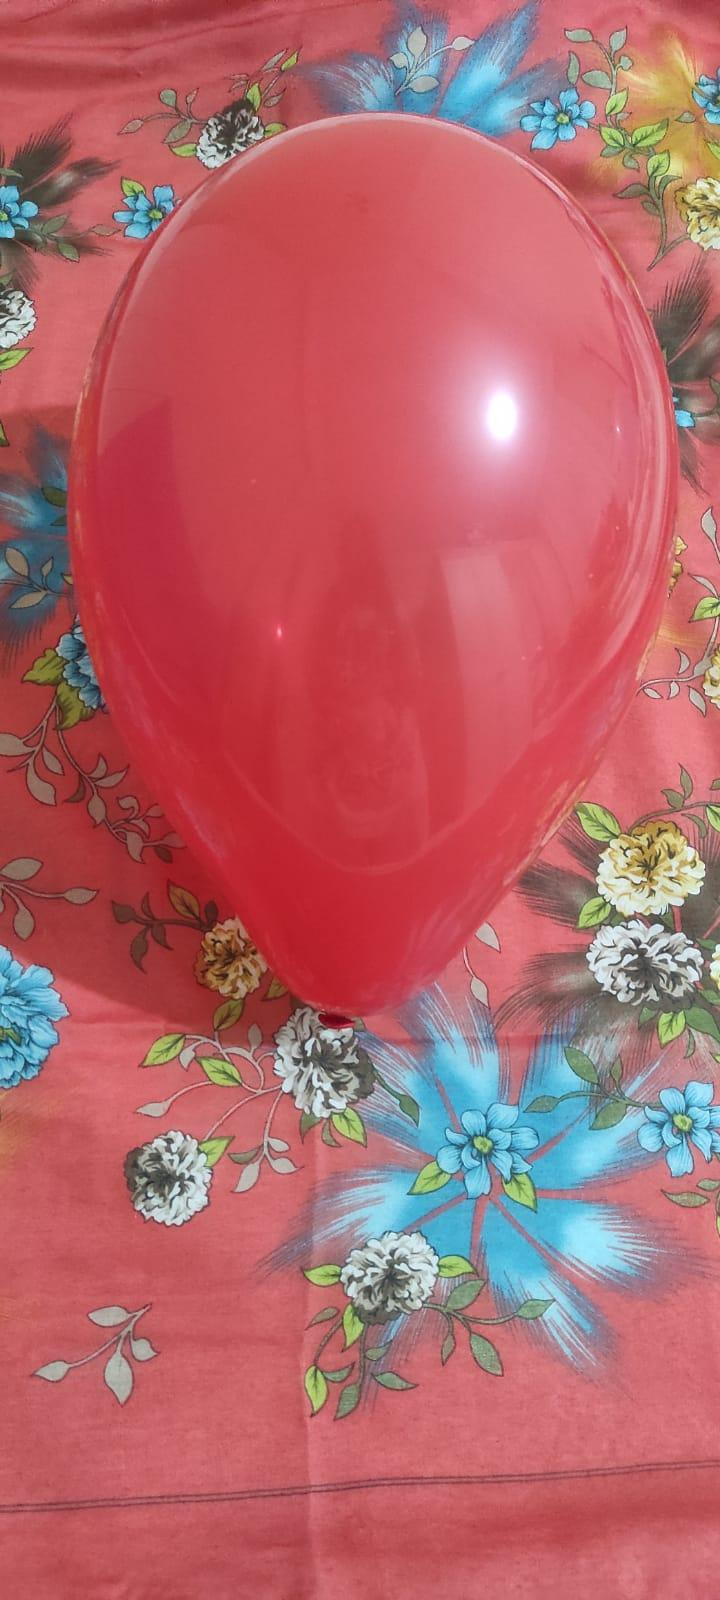red: (78, 114, 672, 1030)
